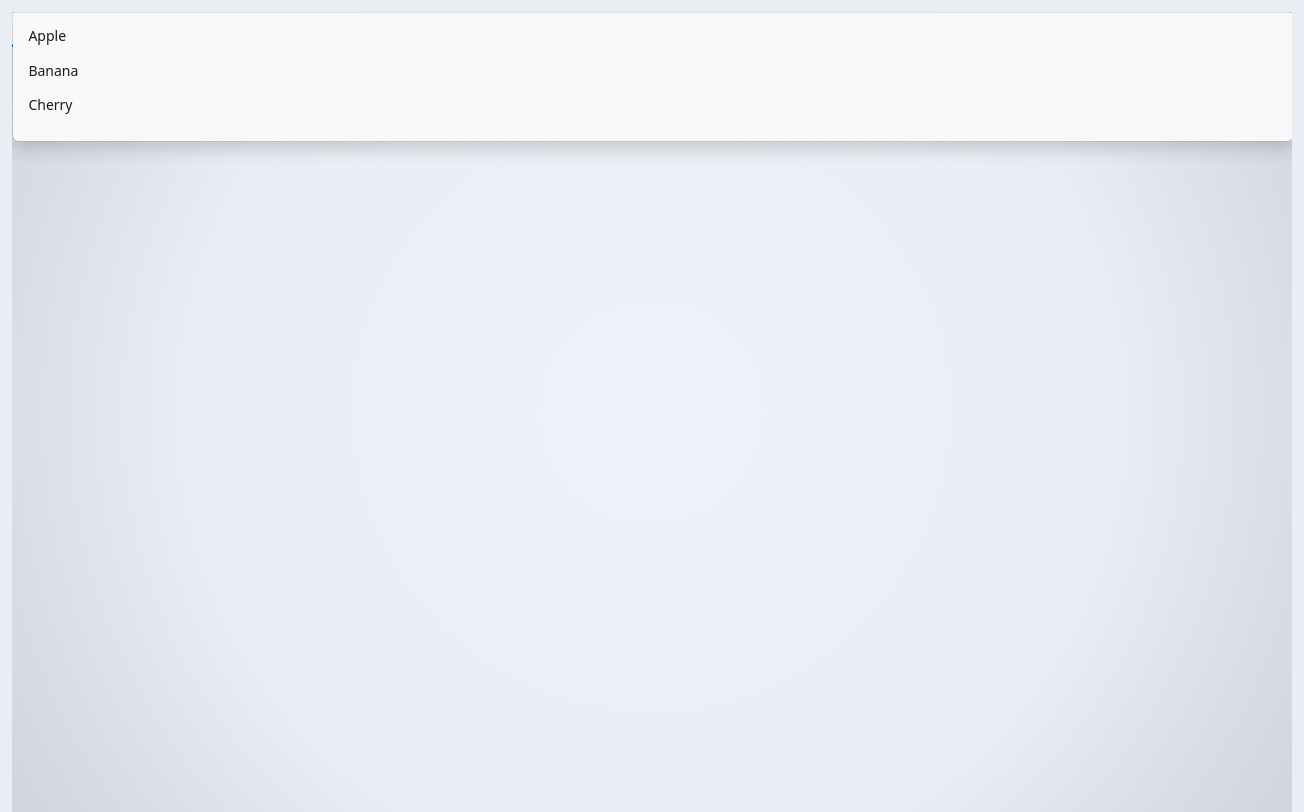
Test case: selection › sets the input value and closes when an option is clicked
Click the option "Banana".
click(53, 70)  # box [28, 61, 78, 80]
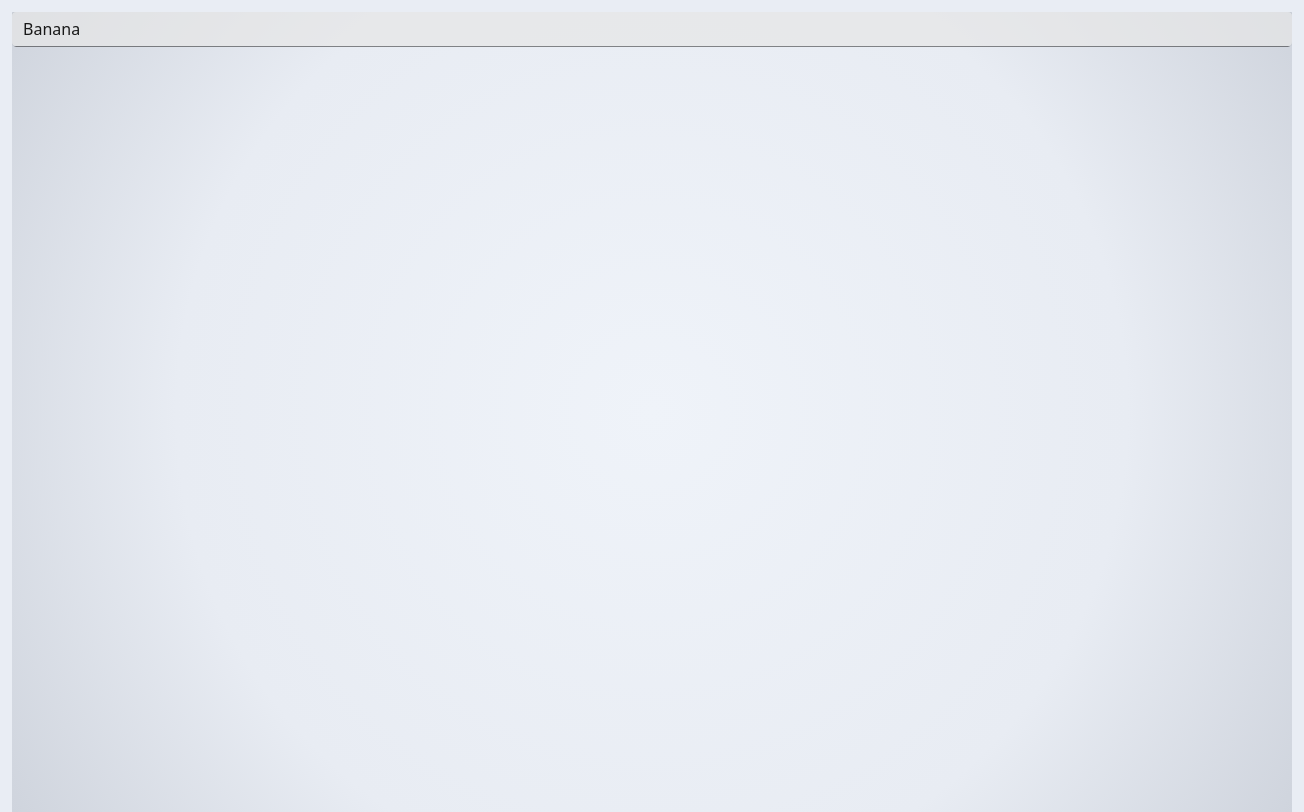
Result: the dropdown holds "Banana" at [12, 12, 1253, 46]
Result: the dropdown is collapsed at [12, 12, 1253, 46]
